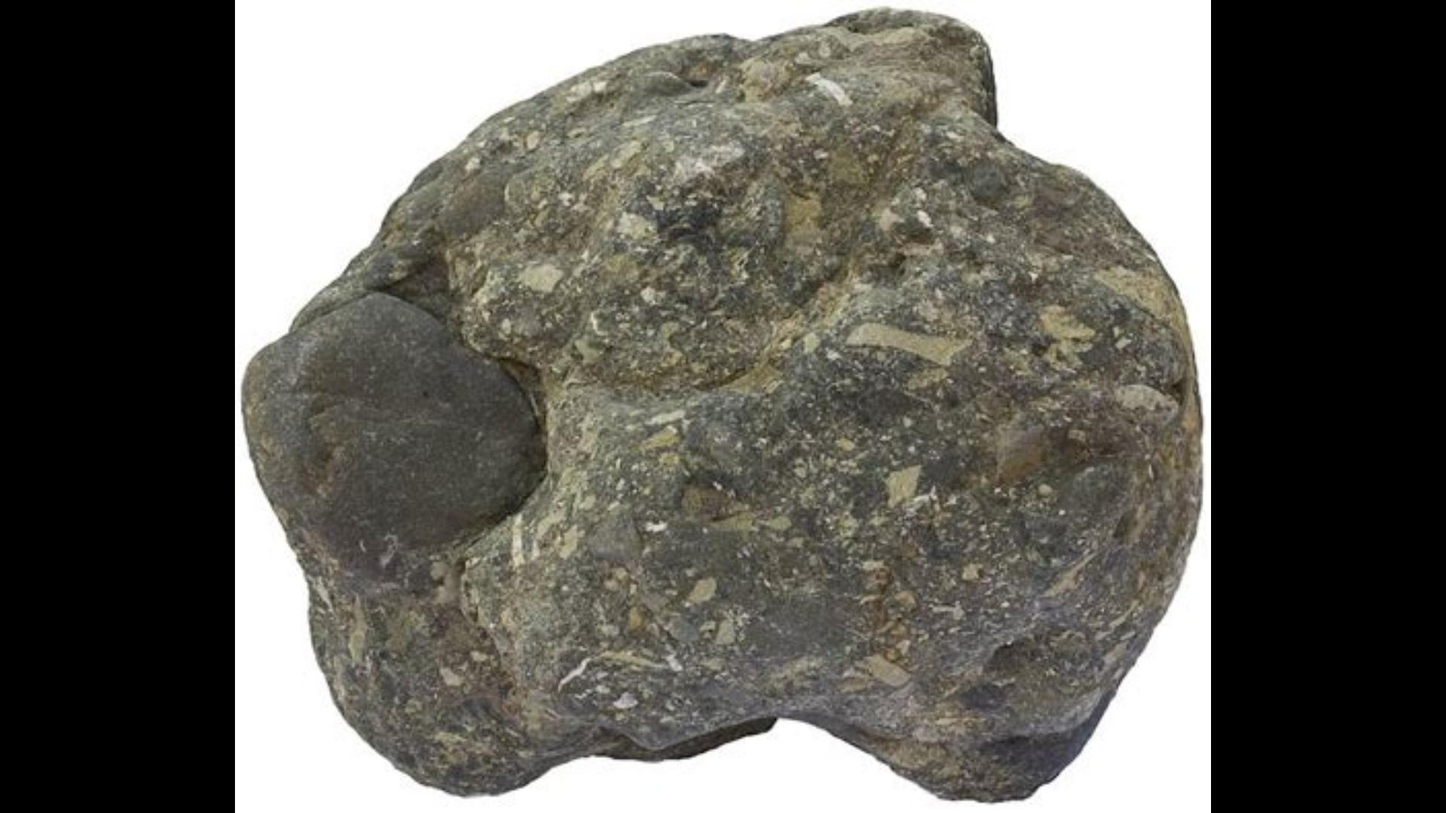rock: (251, 12, 1192, 794)
